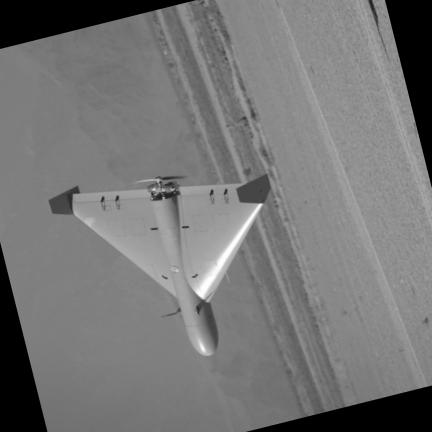Shahed: (50, 174, 270, 354)
